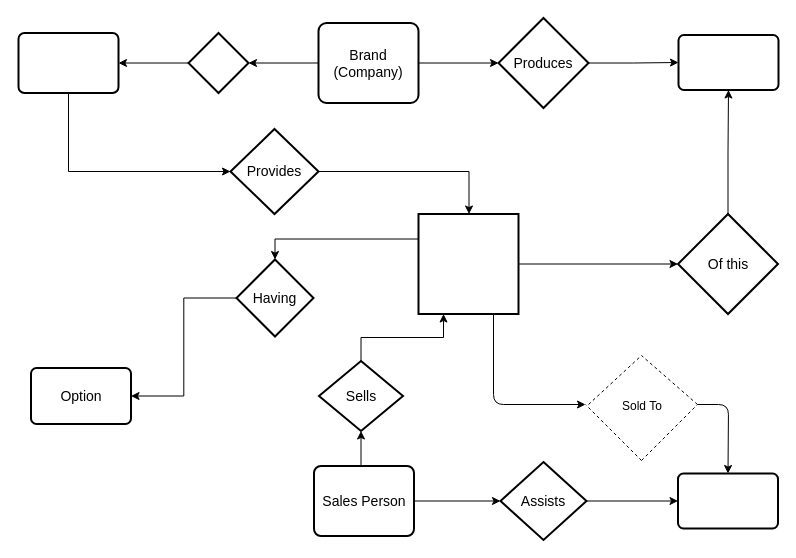
Some shapes in this 796 by 558 pixel diagram are drawn without their labels. The shapes that lost their labels are listed below. From the top down, each one's box as (x1, y1, x2, y2) in pixels, then its label:
(17, 32, 119, 94): Dealer
(187, 32, 249, 94): Has
(677, 34, 779, 90): Model
(417, 212, 519, 314): Car
(676, 472, 778, 529): Customer
